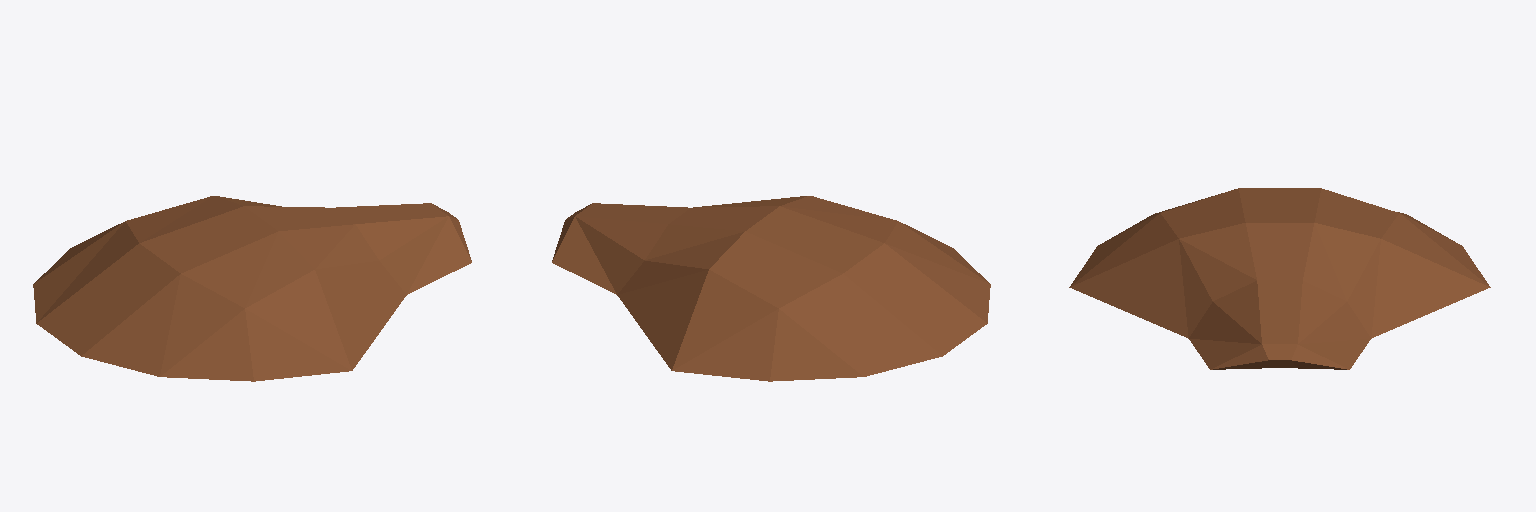
The model's file is Shell_Salmon.obj.
The picture shows the model from 3 angles: view 1: azimuth 30°, elevation 25°; view 2: azimuth 150°, elevation 25°; view 3: azimuth 270°, elevation 25°; orthographic projection.
Parts seen in each view (by area): view 1: Shell_Salmon_Bottom.001_Cube.240; view 2: Shell_Salmon_Bottom.001_Cube.240; view 3: Shell_Salmon_Bottom.001_Cube.240, Shell_Salmon_Top.001_Cube.235.
Part boxes in pixels (left/top/right/bottom): Shell_Salmon_Bottom.001_Cube.240: left=33, top=196, right=471, bottom=381; Shell_Salmon_Bottom.001_Cube.240: left=552, top=196, right=990, bottom=381; Shell_Salmon_Bottom.001_Cube.240: left=1069, top=188, right=1490, bottom=369; Shell_Salmon_Top.001_Cube.235: left=1213, top=360, right=1346, bottom=369.
Size of the model in its own units: 0.1747 by 0.0304 by 0.1614.